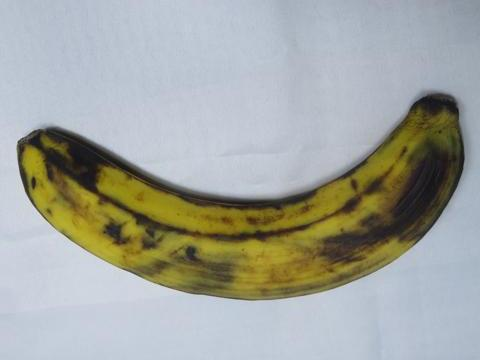overripe: (12, 86, 479, 303)
